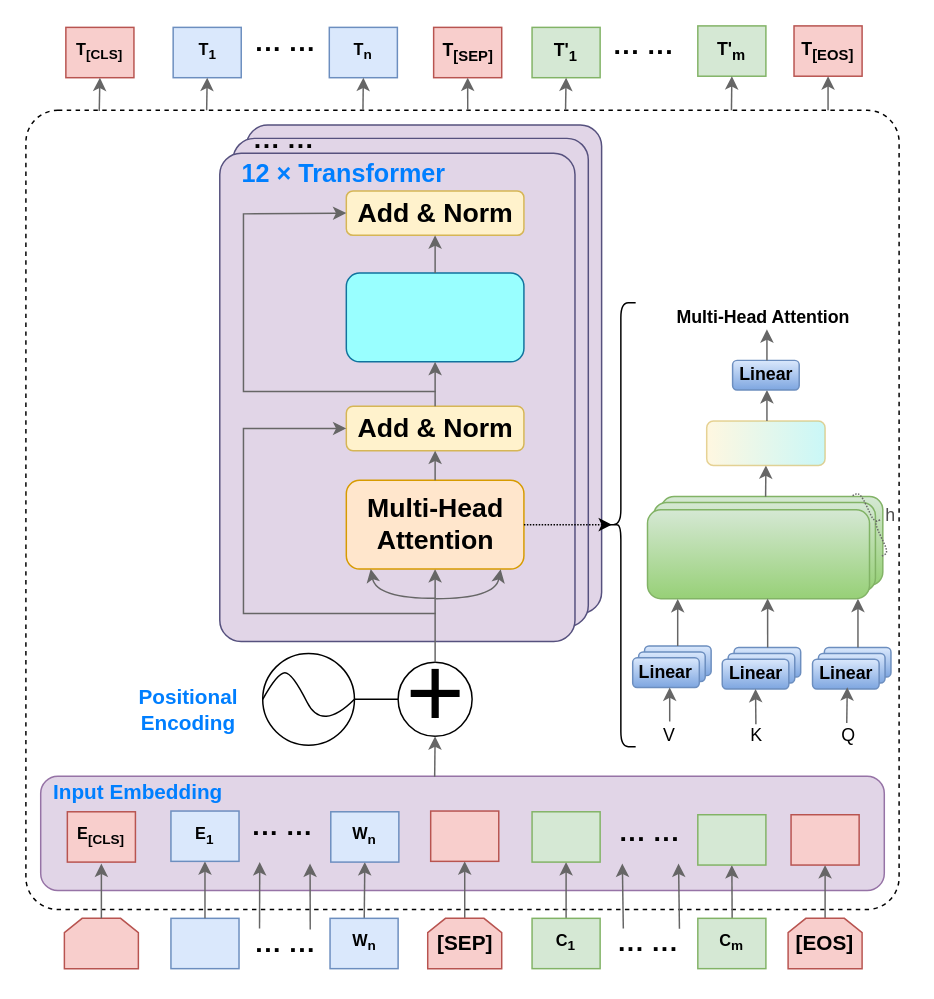
Image size: 934x999. Some labels were removed from this diagram. Each missing label, with the centre of its shape:
"[CLS]" belongs at pixel 100 943.
"Concat" belongs at pixel 765 442.
"E [EOS]" belongs at pixel 824 839.
"E [SEP]" belongs at pixel 464 835.
"E' 1" belongs at pixel 565 836.
"E'm" belongs at pixel 731 839.
"Feed Forward" belongs at pixel 434 317.
"Scaled Dot-Product Attention" belongs at pixel 758 553.
"W 1" belongs at pixel 204 943.
